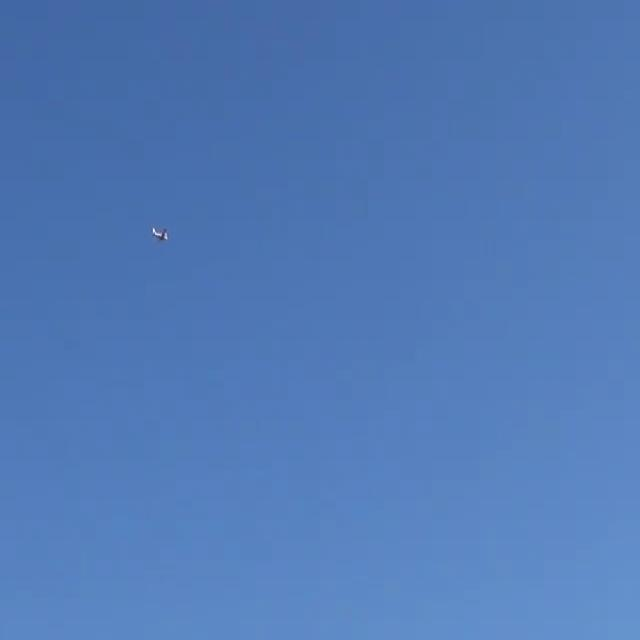AirPlane: (144, 216, 175, 250)
